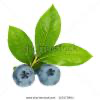Blueberry leaf: (35, 2, 61, 57), (42, 44, 96, 68), (6, 23, 36, 66)
